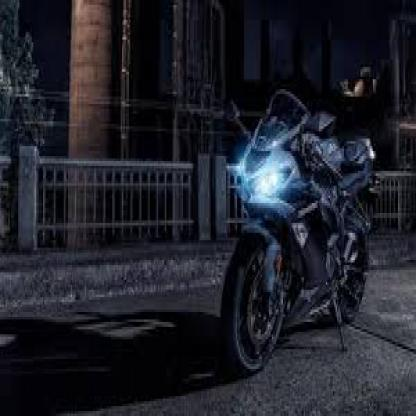Motorcycle: (220, 83, 374, 388)
